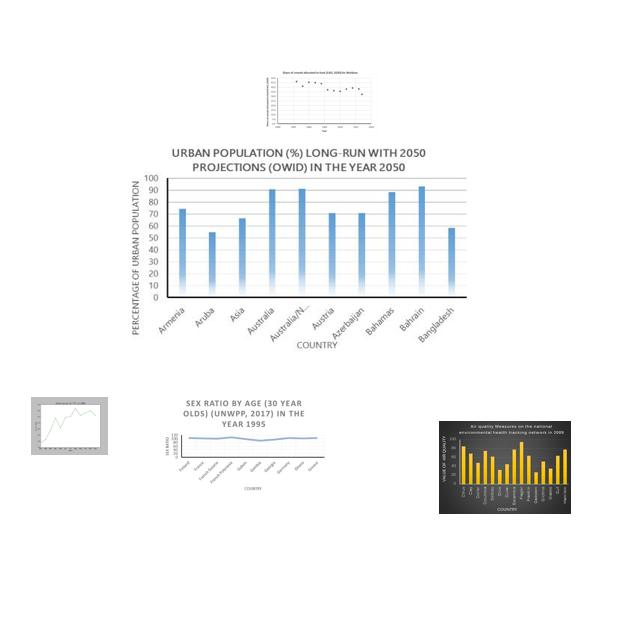Graph: (126, 142, 472, 351), (161, 397, 327, 493), (439, 421, 571, 514), (264, 69, 377, 136), (31, 397, 108, 455)
